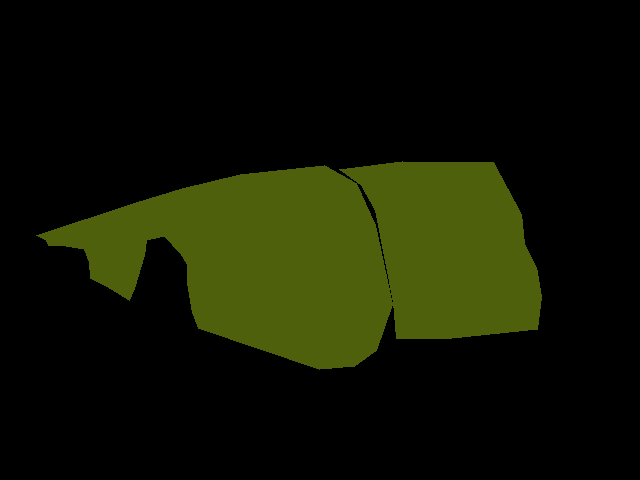Train: (36, 165, 392, 369), (339, 161, 541, 338)
